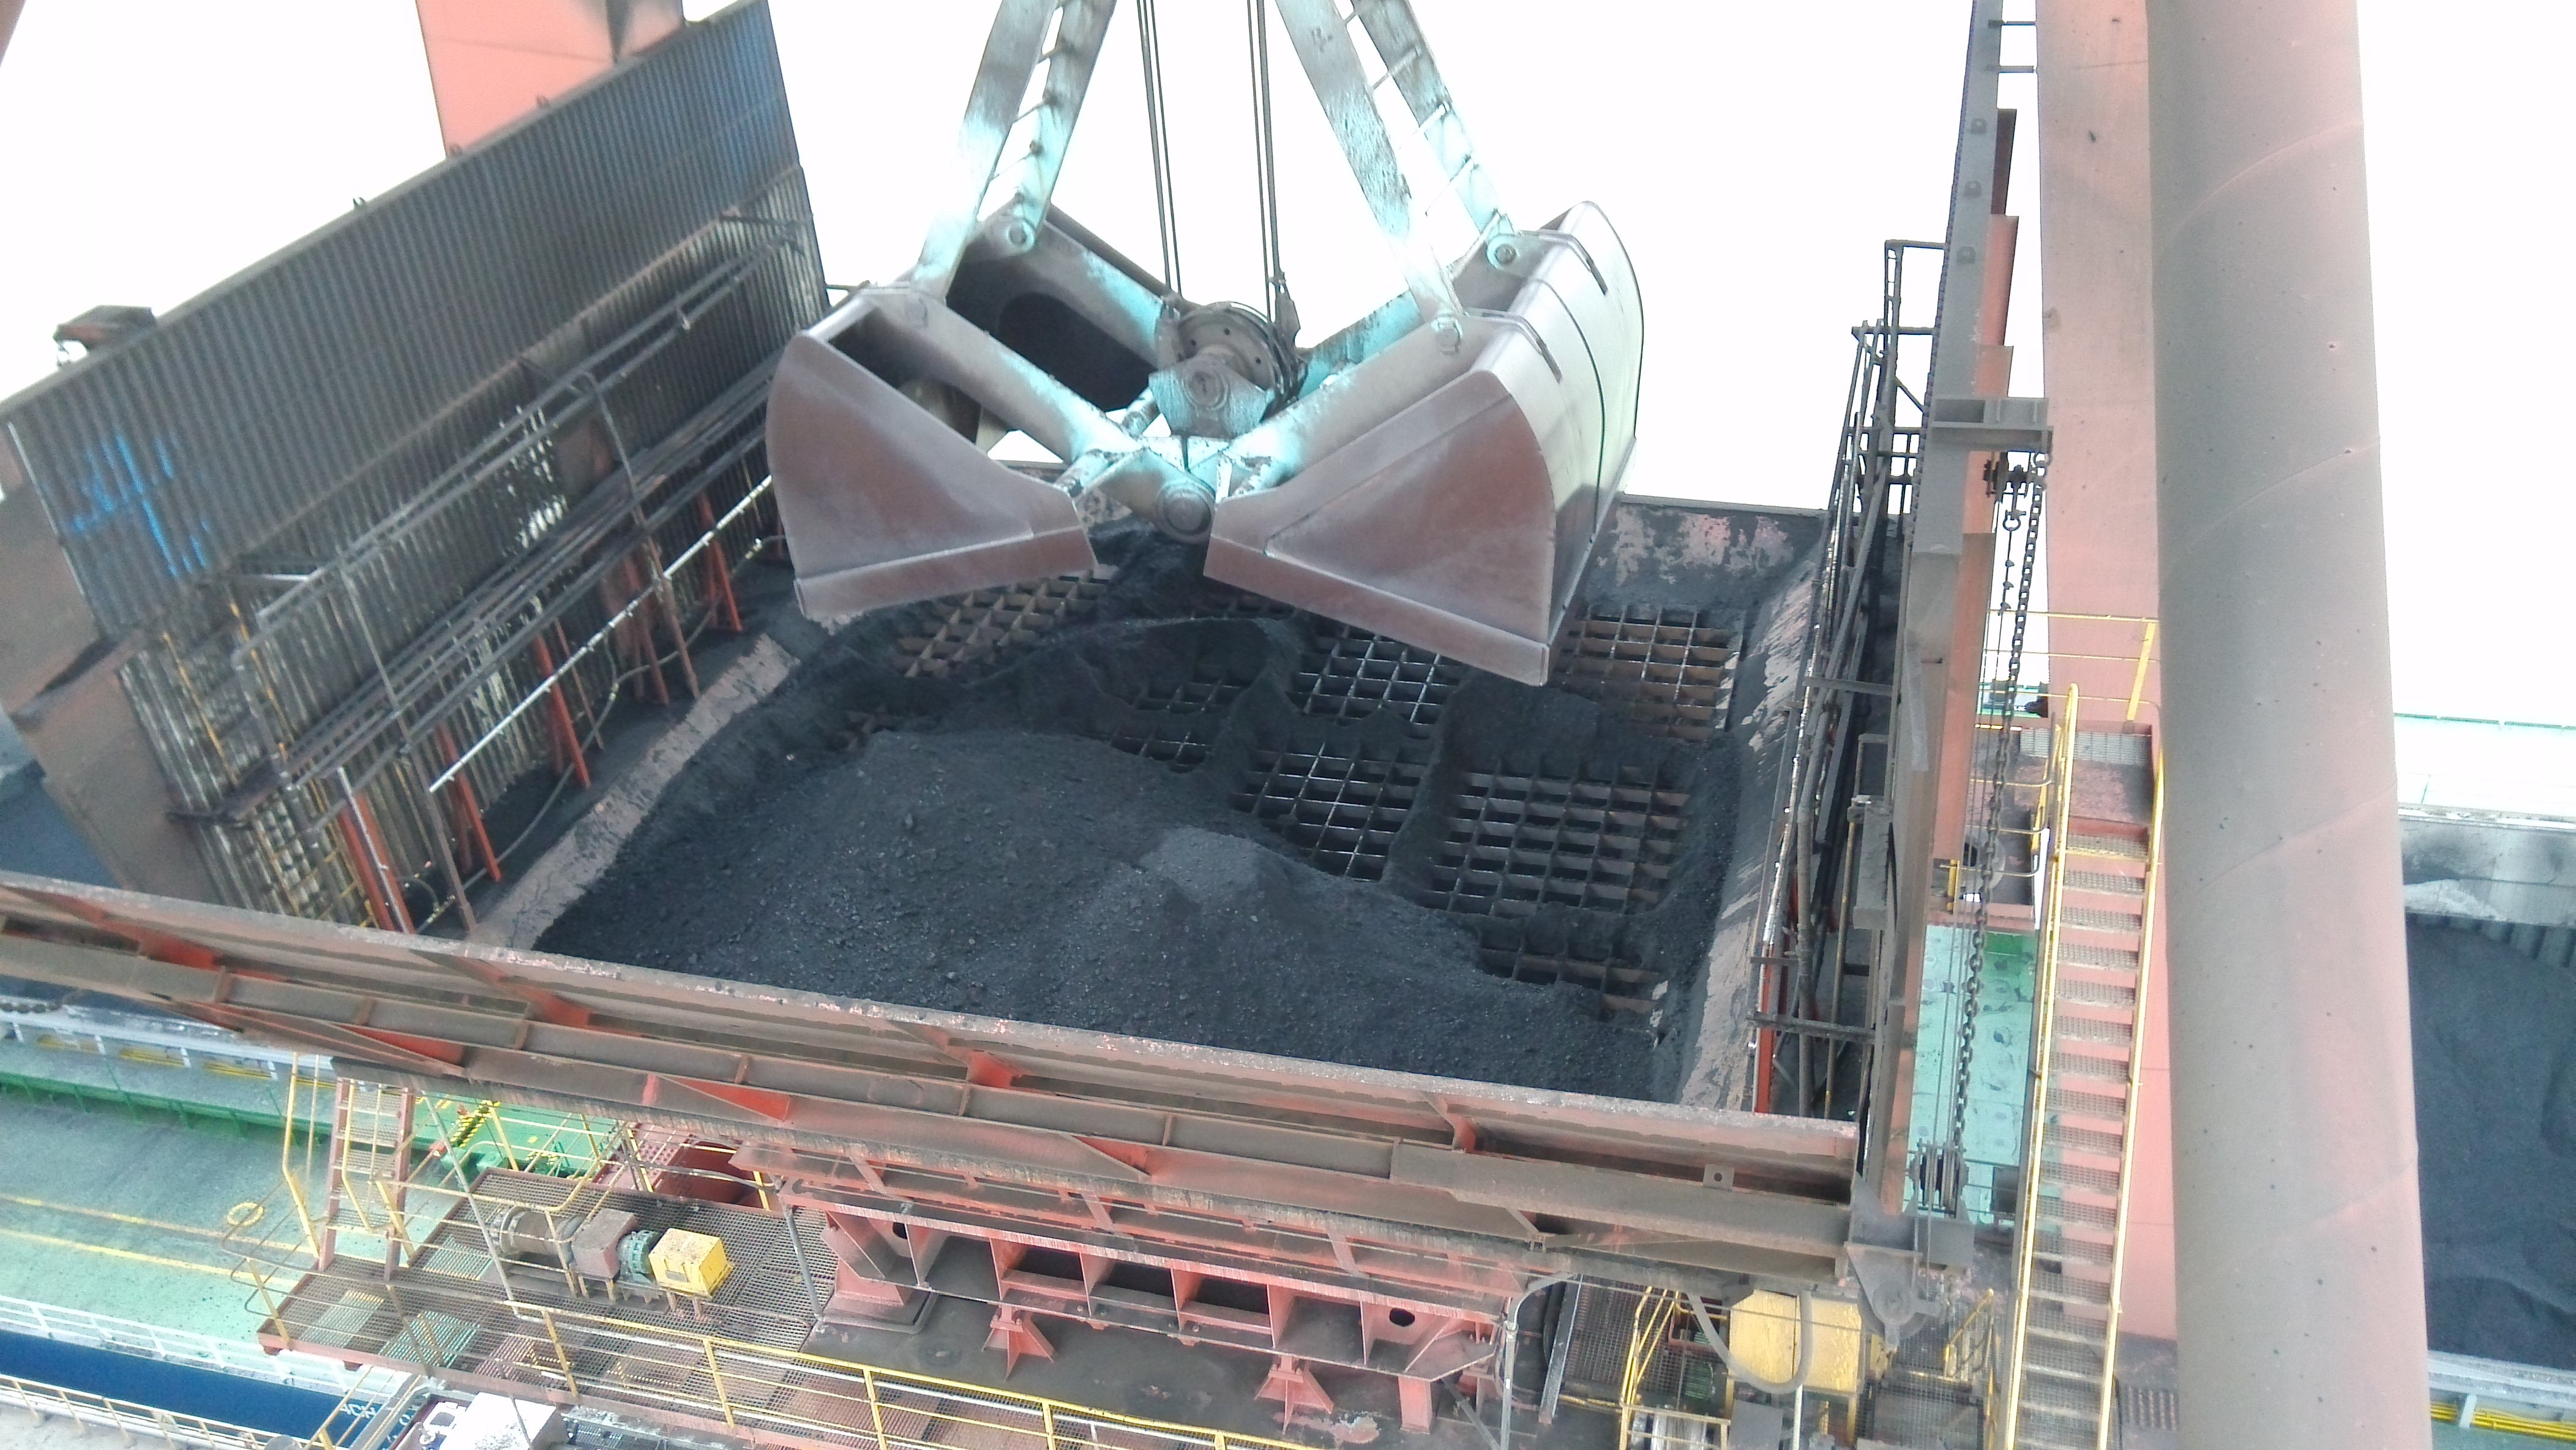grab: (747, 2, 1658, 692)
